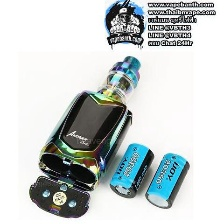battery: (106, 140, 155, 200), (145, 152, 189, 208)
